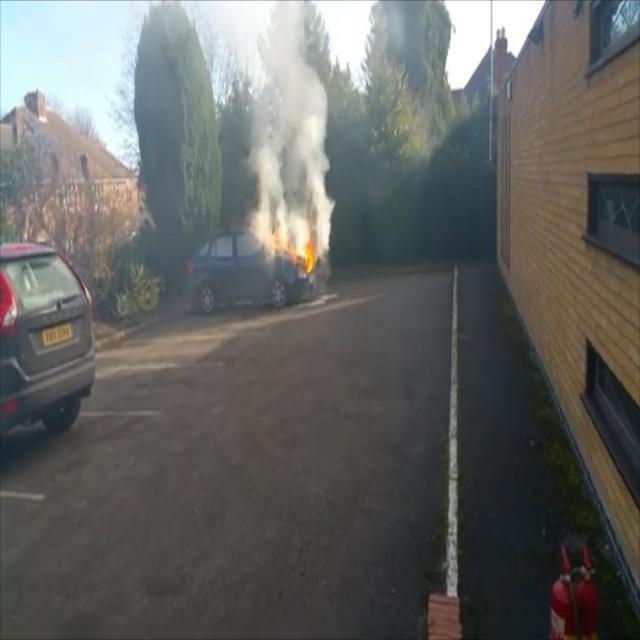fire: (258, 210, 318, 280)
